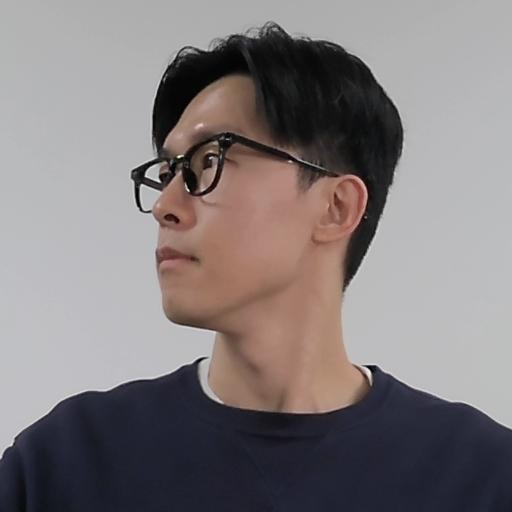no_glasses: (120, 37, 412, 356)
